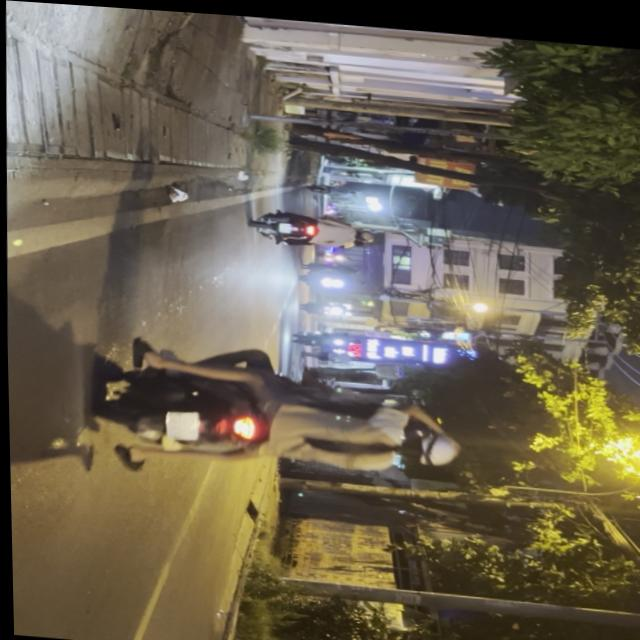helmet: (395, 420, 461, 463)
licenseplate: (84, 330, 467, 489)
nohelmet: (165, 407, 199, 438)
